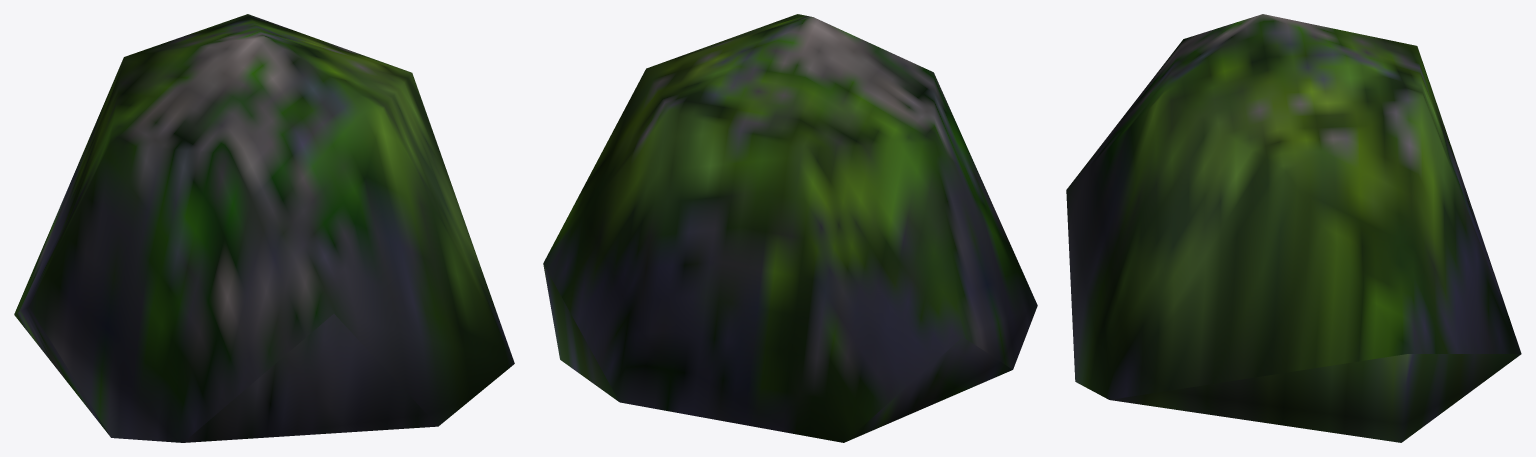
File: Rock1.fbx
3 views of the same model, side by side, from view 1: azimuth 30°, elevation 25°; view 2: azimuth 150°, elevation 25°; view 3: azimuth 270°, elevation 25° (orthographic). The views are drawn at different scales.
Parts seen in each view (by area): view 1: Cube.005; view 2: Cube.005; view 3: Cube.005.
Part boxes in pixels (x1,y1,x2,y2): Cube.005: (14,14,514,442); Cube.005: (543,14,1037,442); Cube.005: (1066,14,1521,442).
Size of the model in its own units: 112 by 93.58 by 114.
